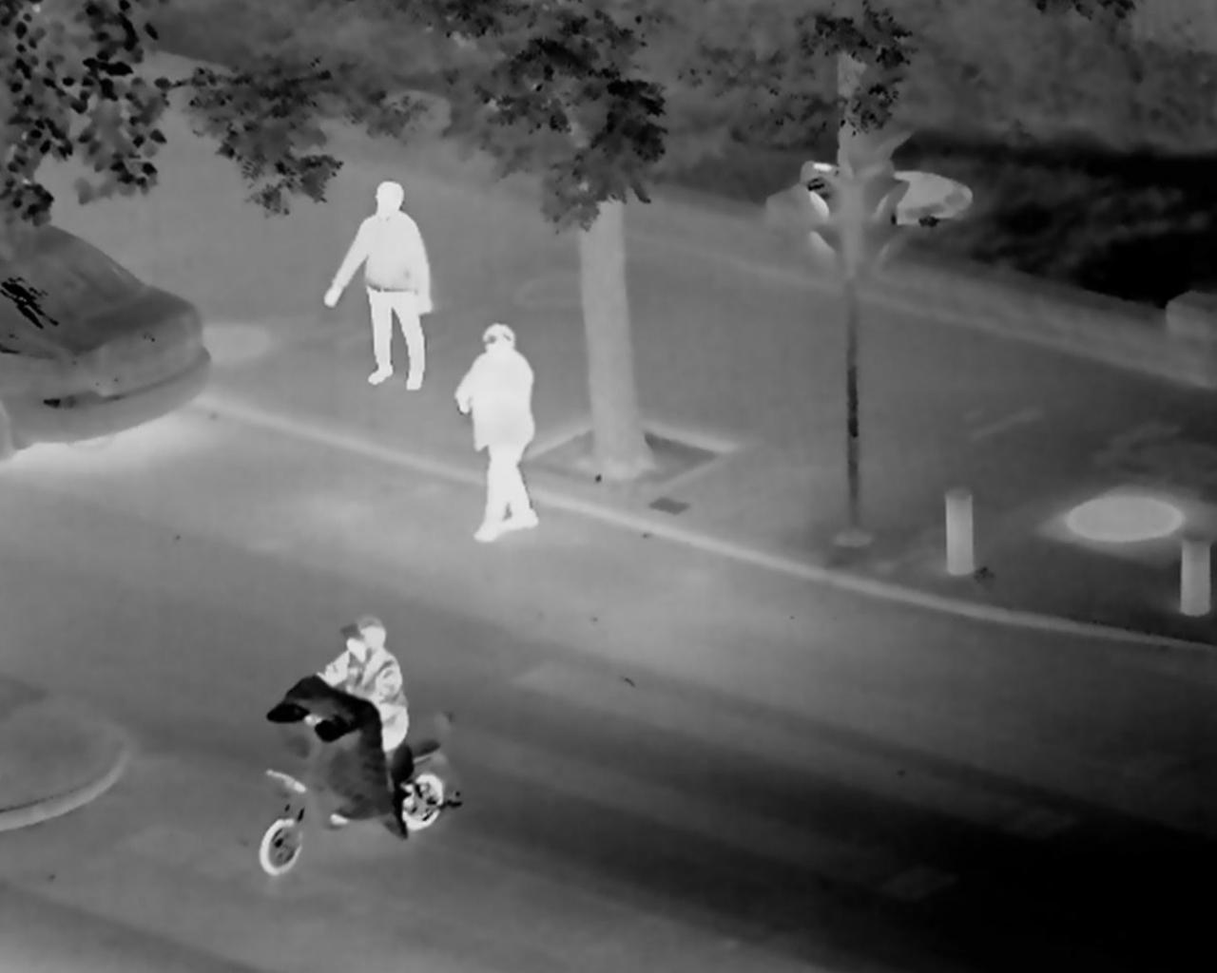person: (331, 171, 433, 400), (464, 315, 552, 547), (332, 615, 413, 778)
